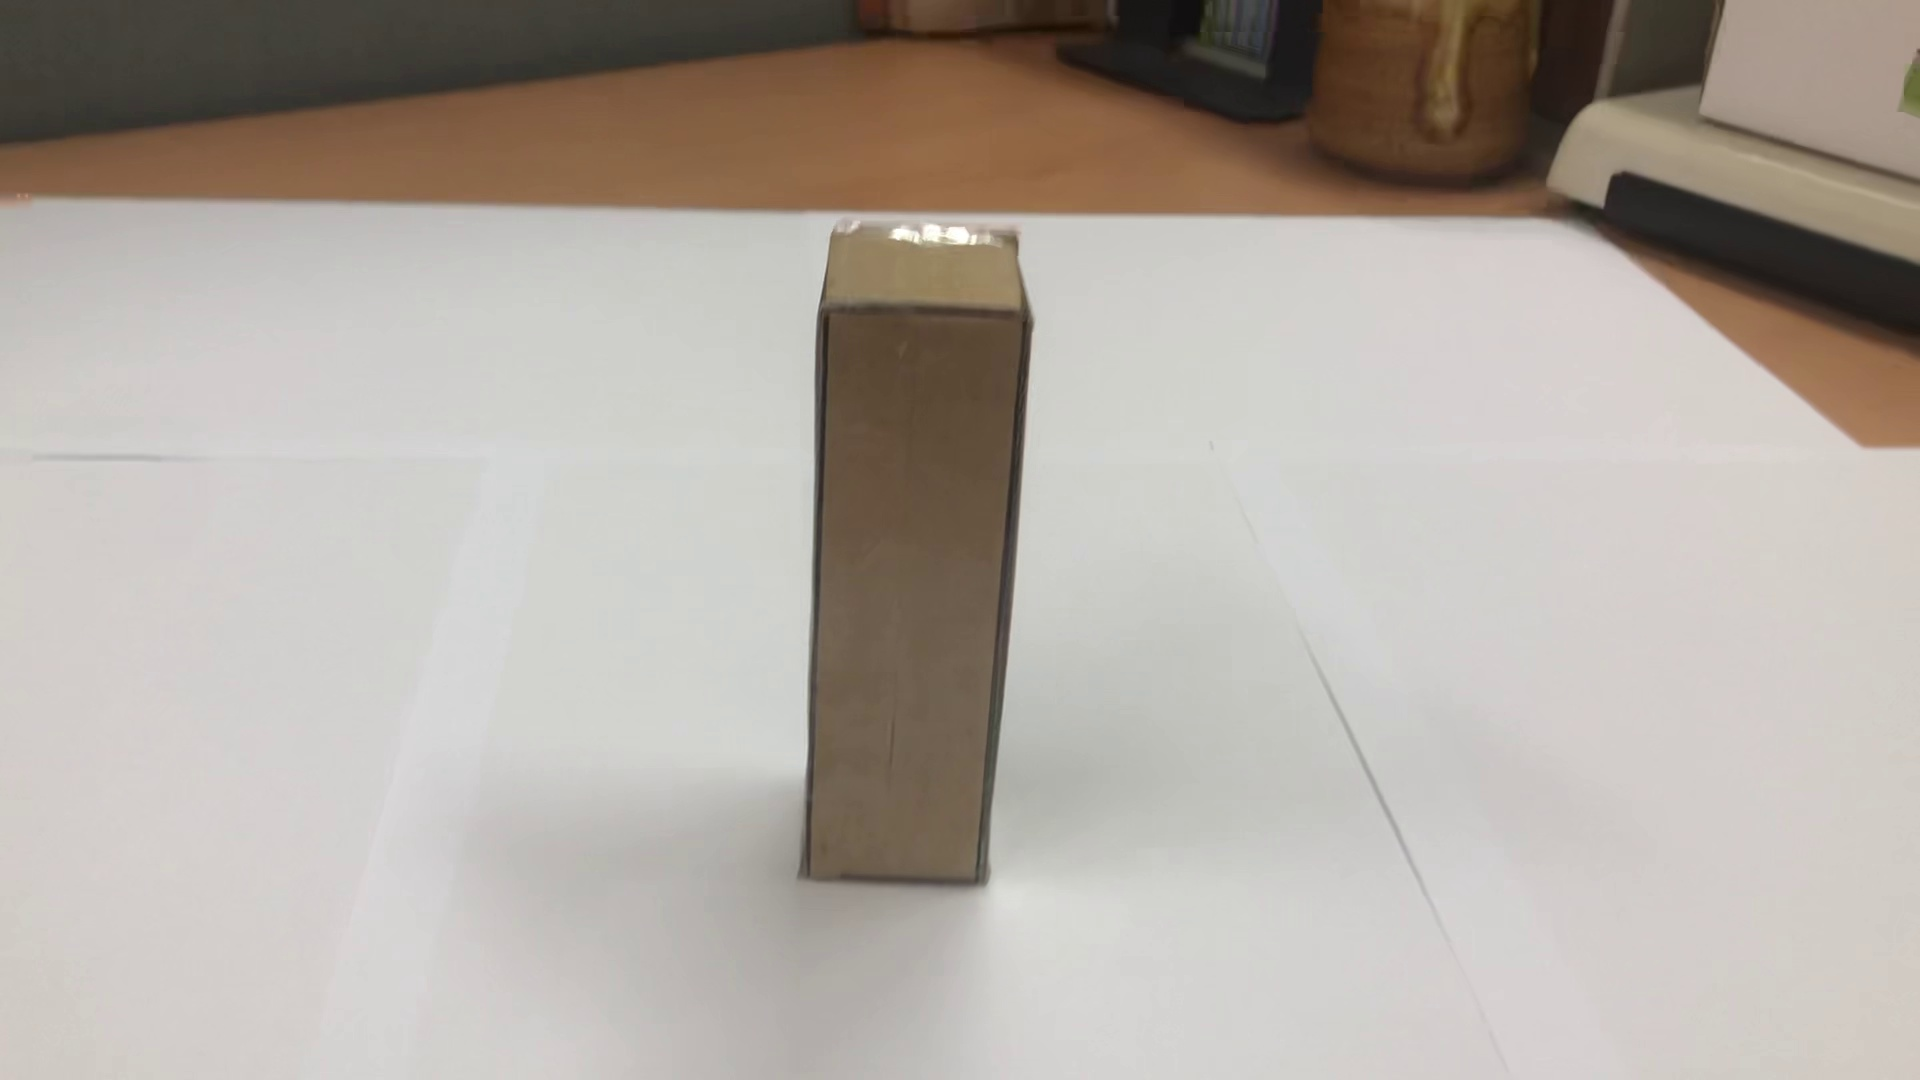box: (663, 210, 1118, 931)
